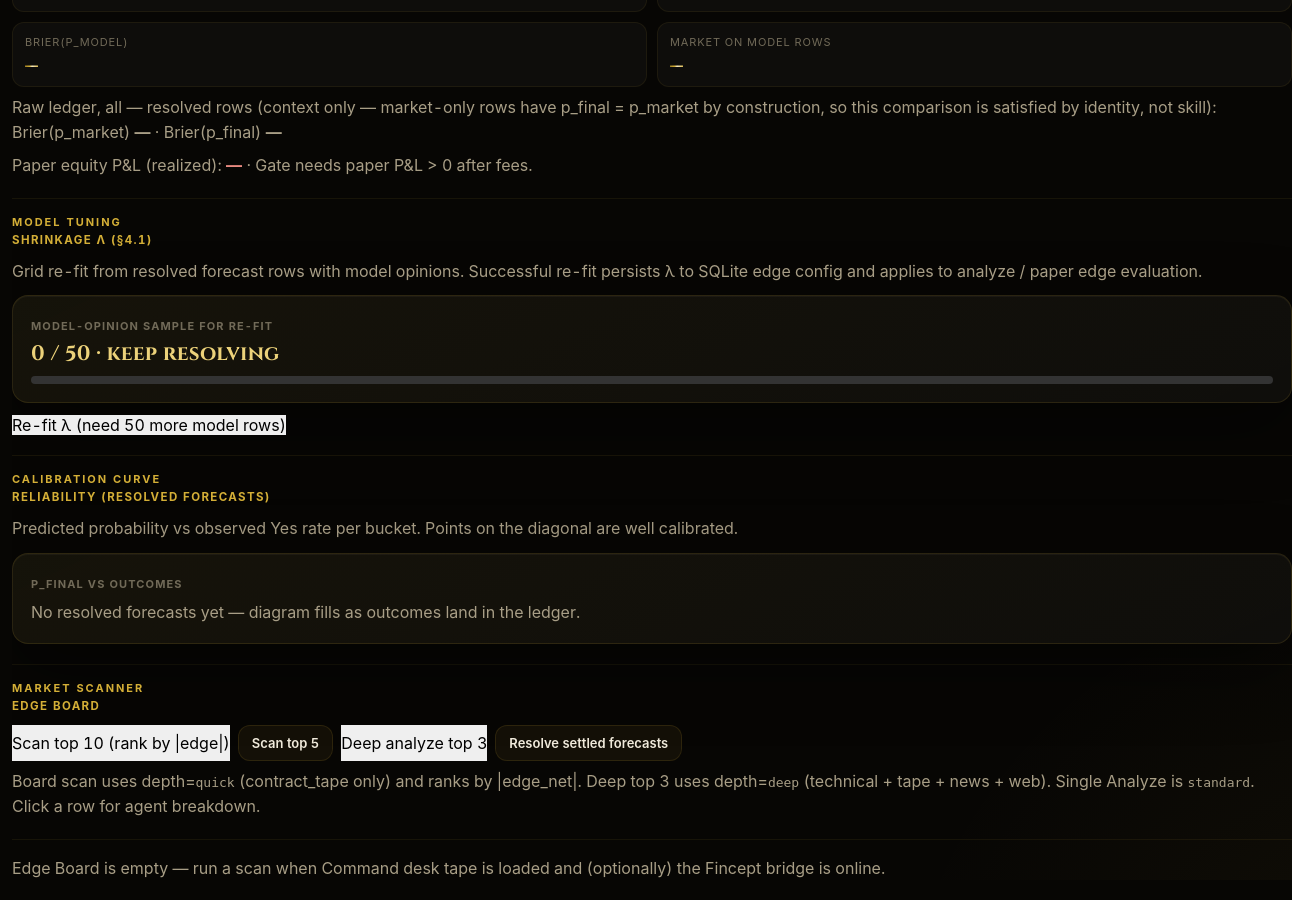
CalibrationView › edge board scan logs batch into ranked table
This screenshot has width=1292, height=900.
(page scrolled)
Click the button "Scan top 10 (rank by |edge|)". click: (121, 743)
box: [12, 725, 230, 761]
(page scrolled)
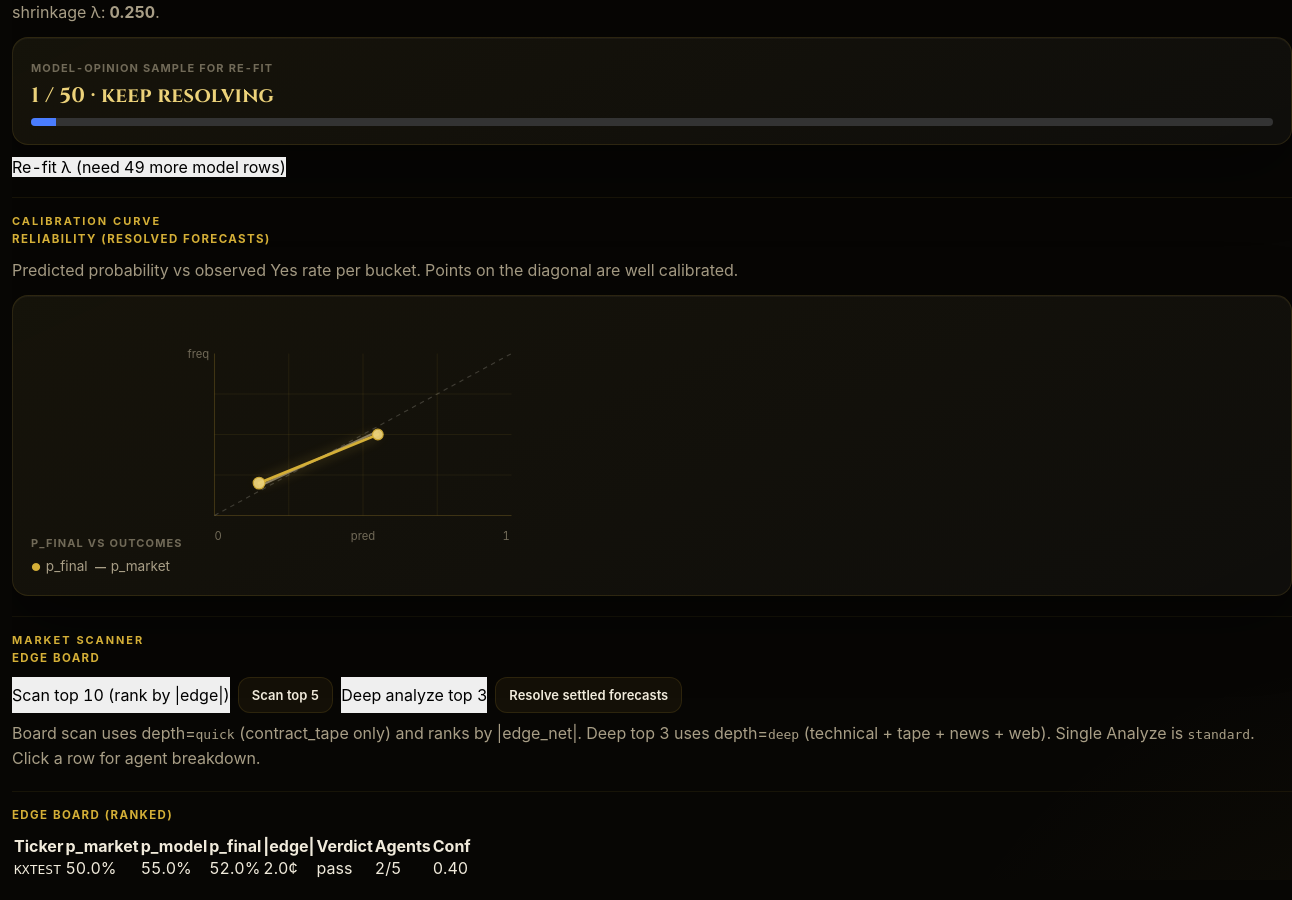
Check: the text "KXTEST" is shown, box [14, 862, 61, 877]
